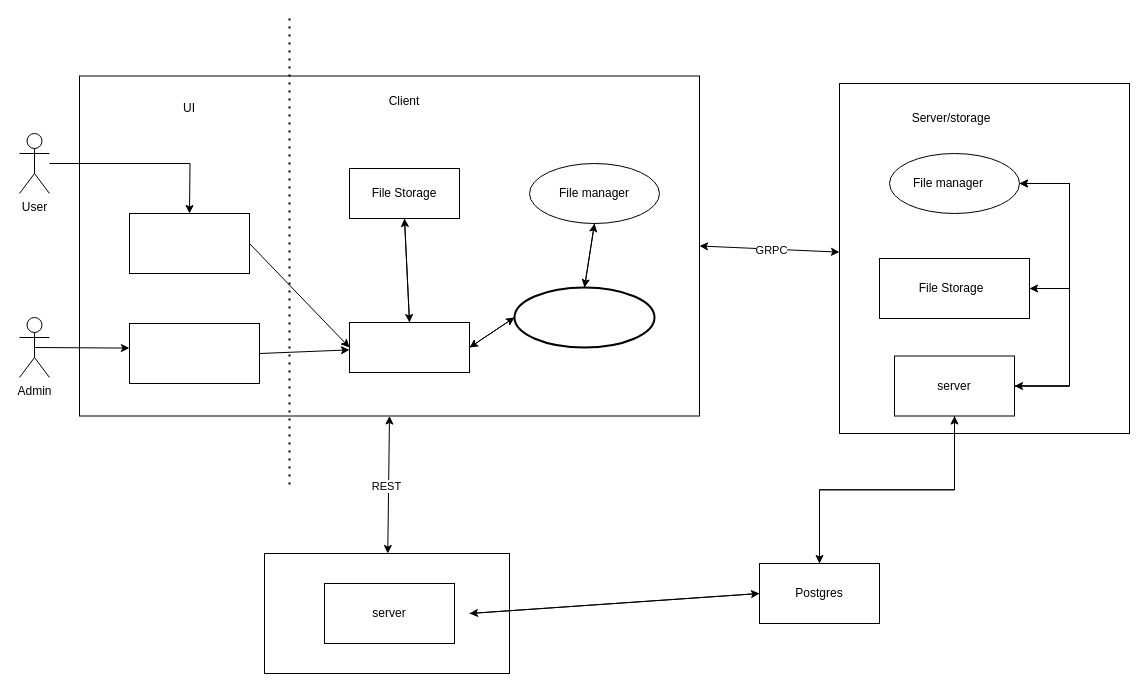
Image size: 1147x691. Some labels were removed from this diagram. Here are the shapes that lost their labels. From the top down, the centre of each, then its label:
point 189,243: GUI
point 584,317: encoder / decoder
point 194,353: Web interface
point 409,347: app
